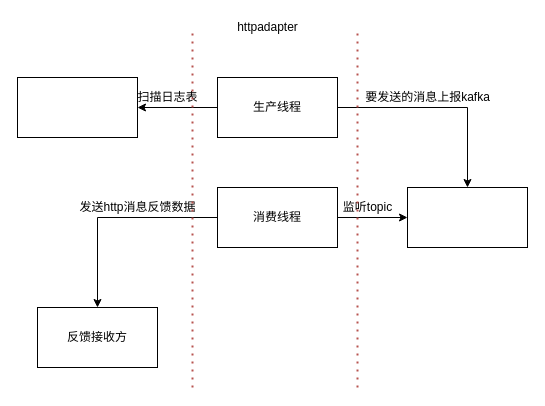
Some shapes in this 545 by 406 pixel diagram are drawn without their labels. The centre of each missing label's shape, as x and y in pixels:
"kafka" belongs at (x=467, y=217).
"oracle" belongs at (x=77, y=107).
